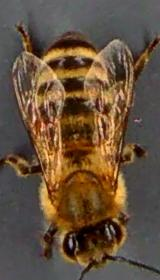varroa_mite: (25, 110, 59, 136)
